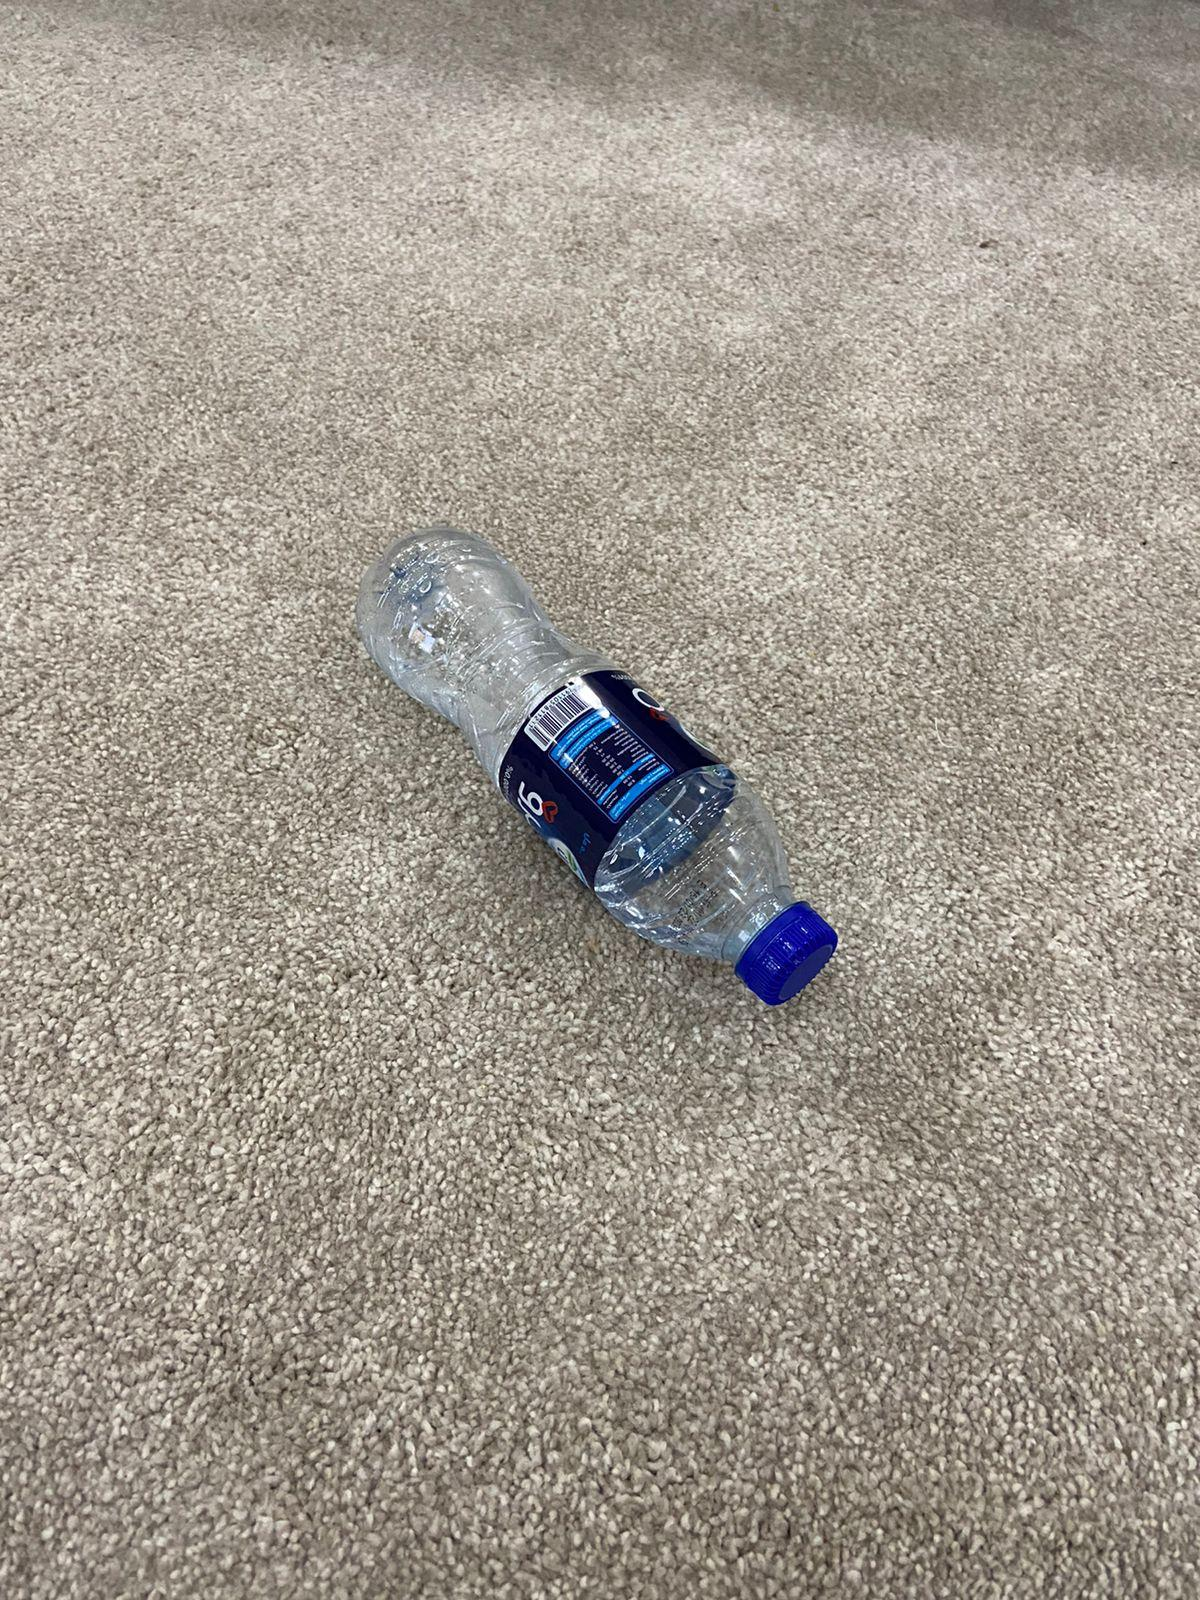bottle: (358, 520, 850, 1012)
